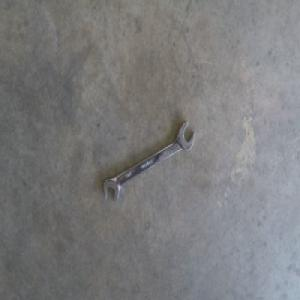Wrench: (103, 121, 195, 203)
